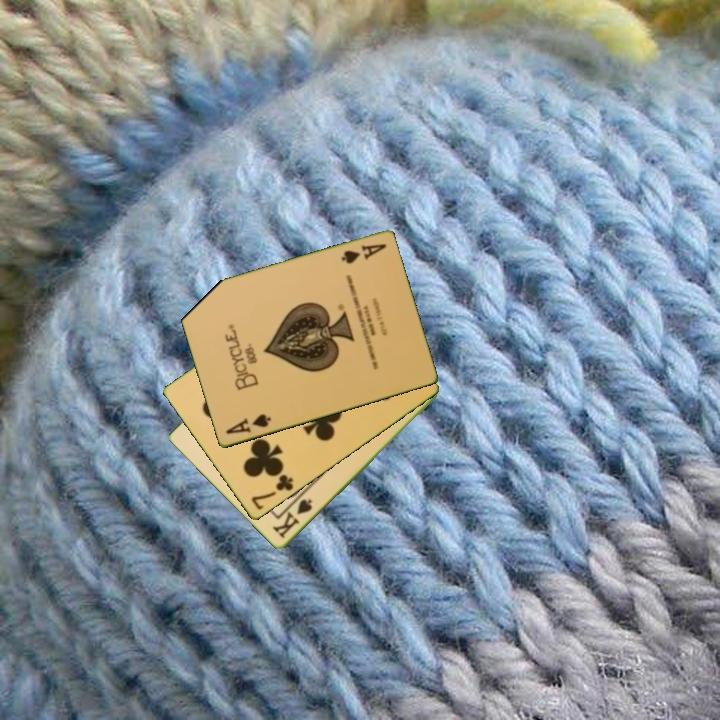7c: (247, 471, 296, 513)
As: (222, 411, 274, 437), (337, 241, 389, 267)
Ks: (269, 496, 315, 542)
